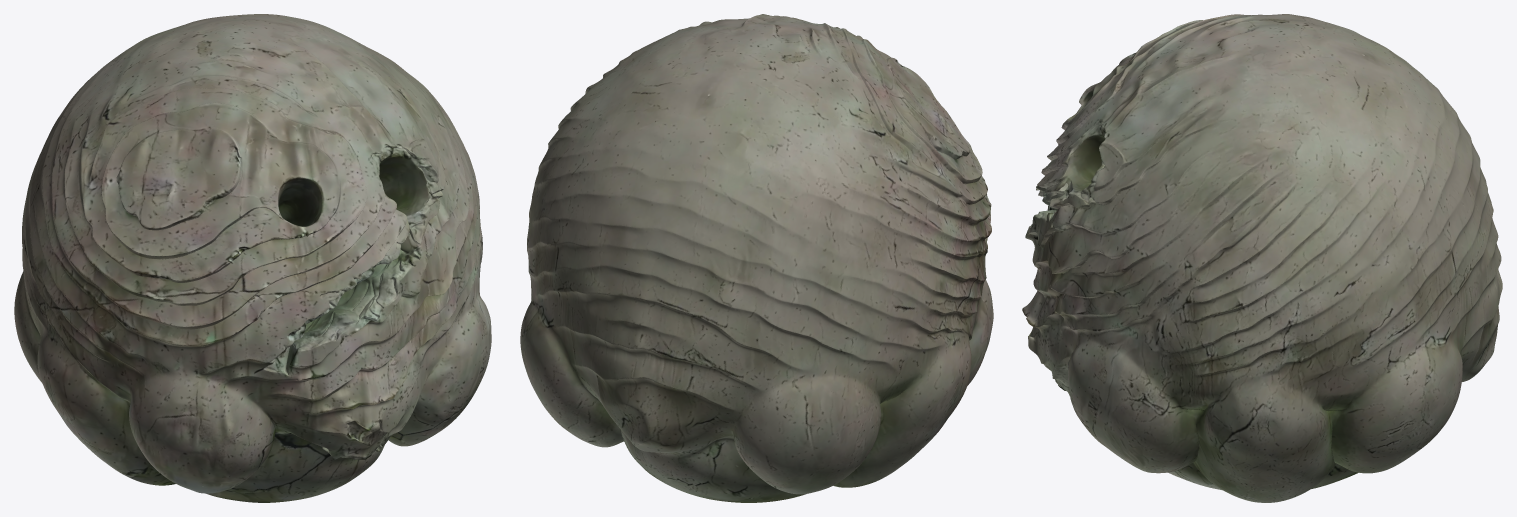
Rendered from concrete-blob-web.glb.
3 renders of one model, left to right at view 1: azimuth 30°, elevation 25°; view 2: azimuth 150°, elevation 25°; view 3: azimuth 270°, elevation 25°, orthographic.
Parts seen in each view (by area): view 1: model; view 2: model; view 3: model.
Boxes of the visible parts, left/top/right/bottom form: model: left=14, top=14, right=491, bottom=502; model: left=520, top=14, right=993, bottom=502; model: left=1022, top=14, right=1502, bottom=502.
Bounding box in the file's own units: 1.84 × 1.9 × 1.88.
Materials: 1 (1 with a texture image).
